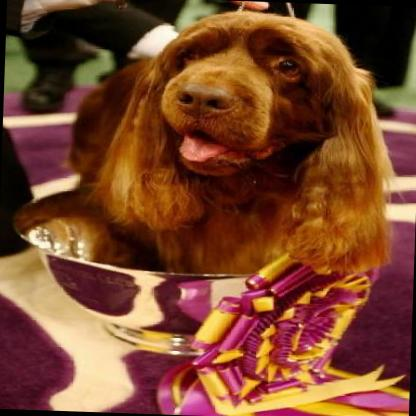Sussex_spaniel: (83, 8, 395, 282)
